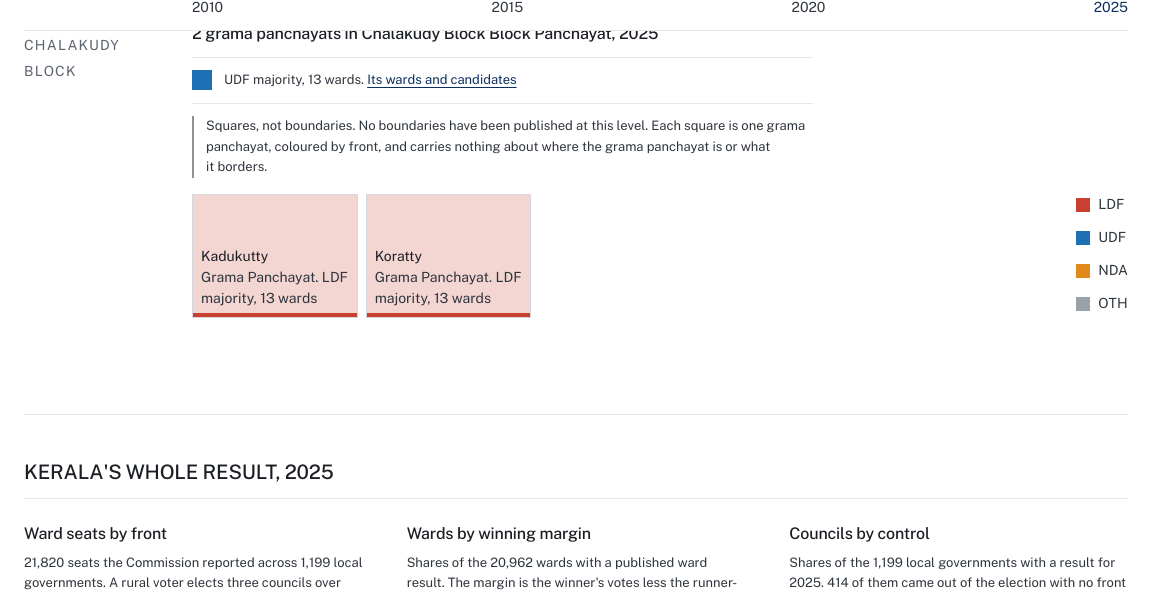
the three elections a district holds › keeps the block's pane open above the body opened from it
This screenshot has width=1152, height=595.
(page scrolled)
Click the button named "open the wards of Kadukutty" at (275, 256), box [192, 194, 358, 318]
(page scrolled)
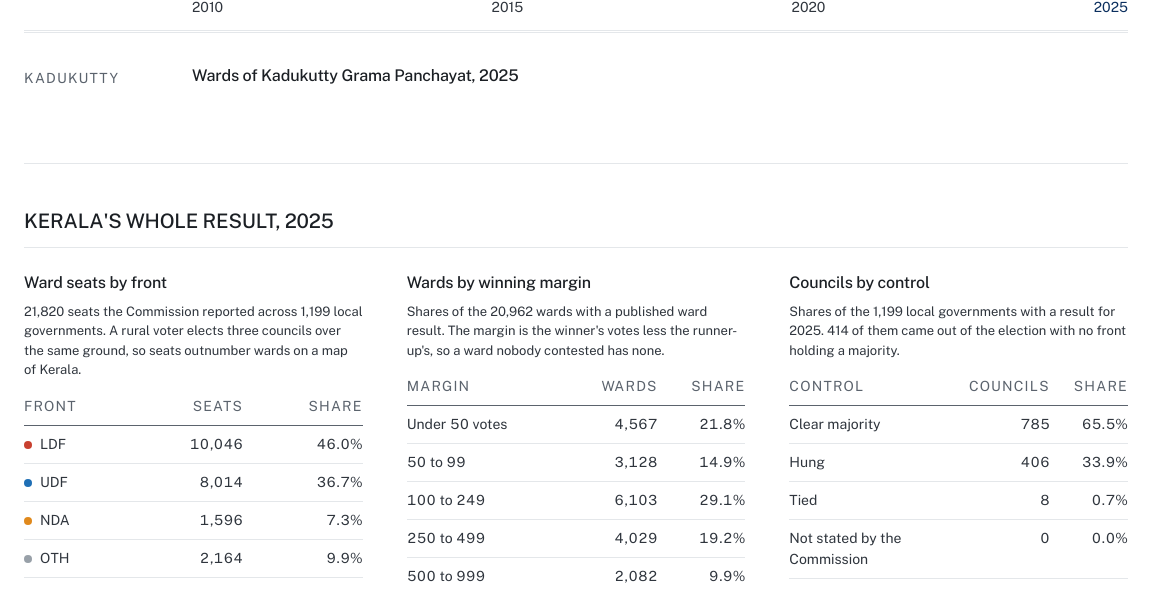
Now the element "Kadukutty Wards of Kadukutty Grama Panchayat, 2025" is shown, box [24, 32, 1128, 99]
